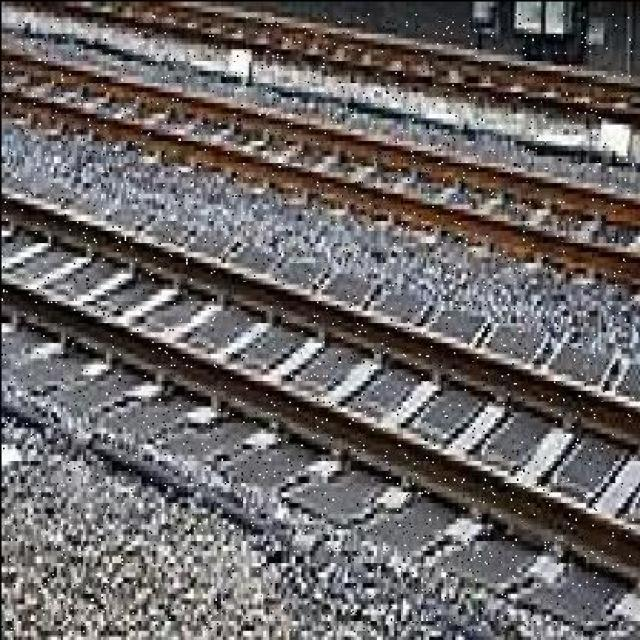rail: (2, 14, 633, 633)
